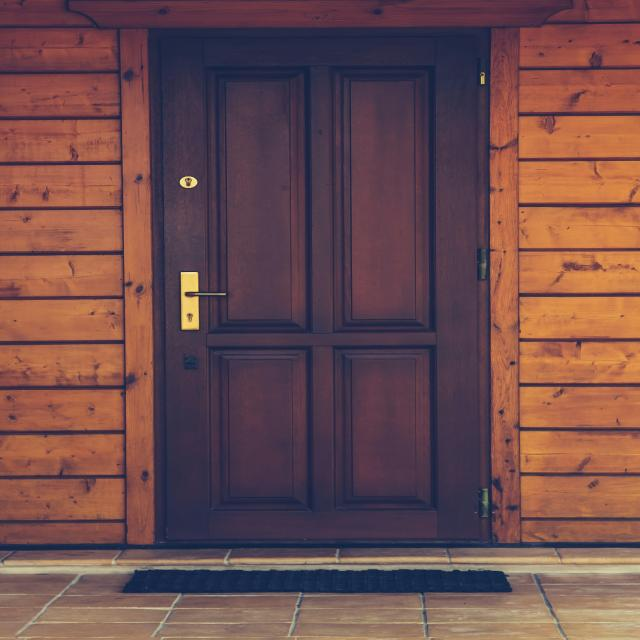door-handle: (186, 291, 227, 296)
